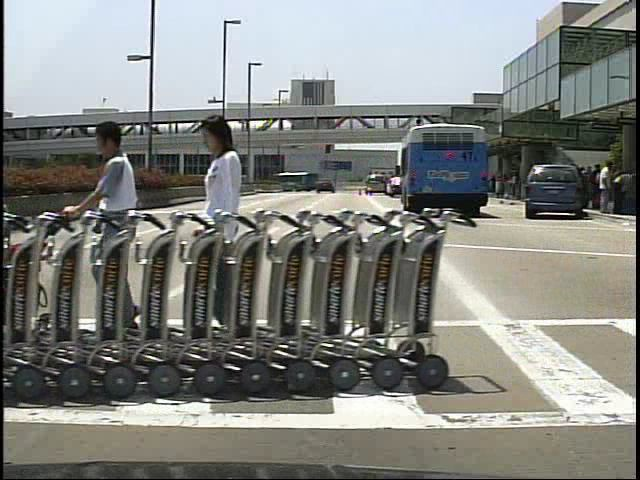person: (189, 112, 273, 350), (74, 120, 155, 339), (597, 160, 618, 216), (589, 162, 606, 215)
